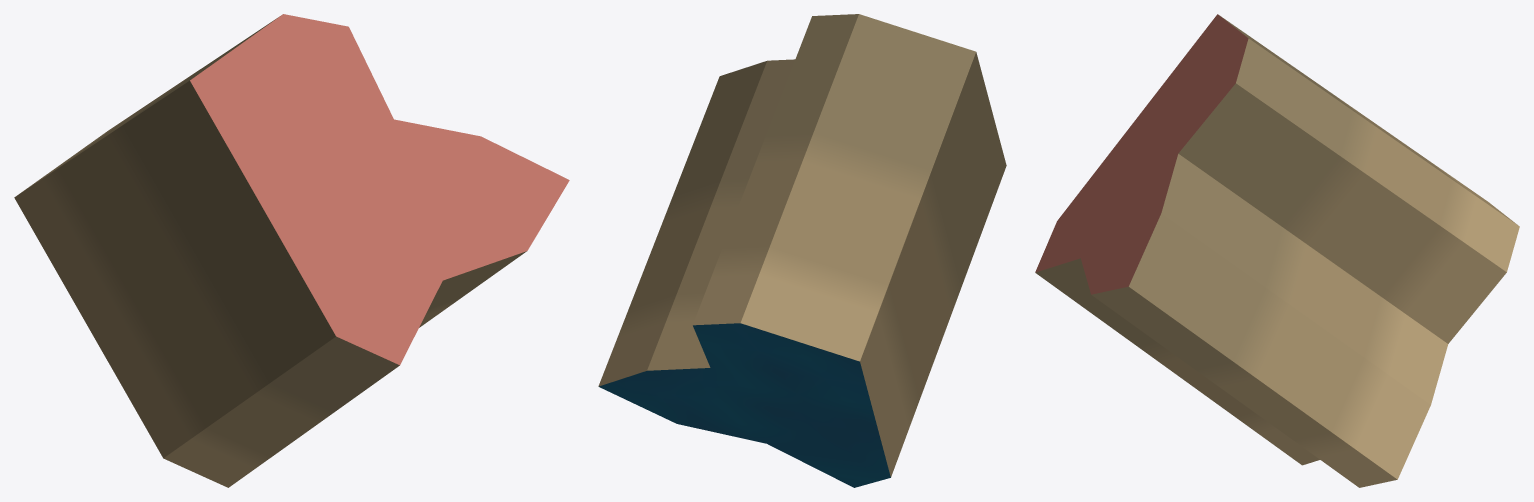
File: 0671_Holland.glb
3 views of the same model, side by side, from view 1: azimuth 30°, elevation 25°; view 2: azimuth 150°, elevation 25°; view 3: azimuth 270°, elevation 25° (orthographic). The views are drawn at different scales.
Parts seen in each view (by area): view 1: part_0; view 2: part_0; view 3: part_0.
Part boxes in pixels (x1,y1,x2,y2): part_0: (14, 14, 569, 487); part_0: (598, 14, 1006, 487); part_0: (1035, 14, 1519, 487).
Bounding box in the file's own units: 0.2097 × 0.2769 × 0.2778.
Materials: 1 (1 with a texture image).
